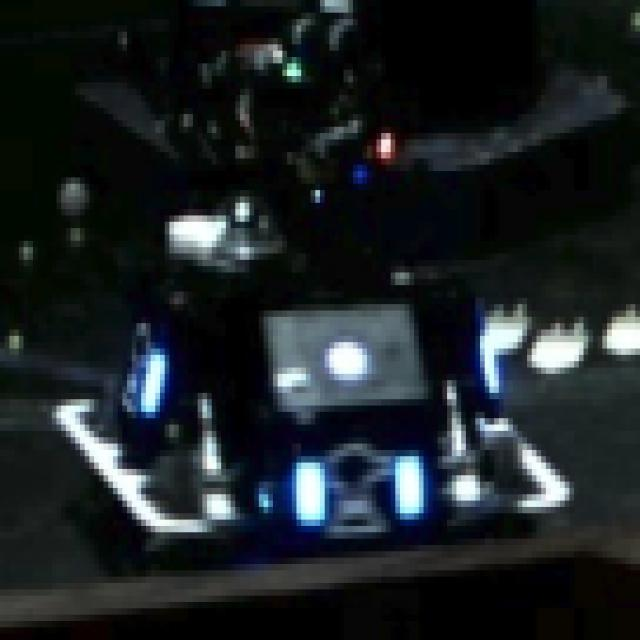Bs: (301, 438, 424, 532)
